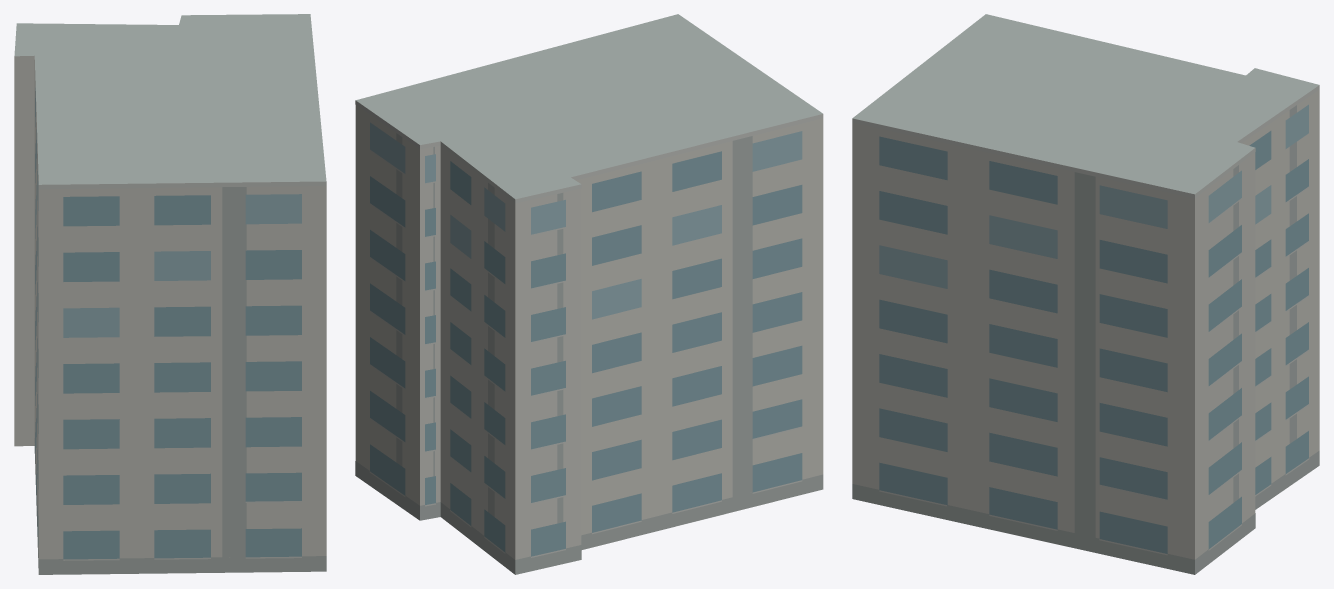
File: survey-upis-32888791.glb
3 views of the same model, side by side, from view 1: azimuth 30°, elevation 25°; view 2: azimuth 150°, elevation 25°; view 3: azimuth 270°, elevation 25° (orthographic). The views are drawn at different scales.
Visible parts, largest first — view 1: survey-upis-32888791.tmp; view 2: survey-upis-32888791.tmp; view 3: survey-upis-32888791.tmp.
Boxes of the visible parts, x1,y1,x2,y2 form: survey-upis-32888791.tmp: (14,14,326,574); survey-upis-32888791.tmp: (355,14,823,574); survey-upis-32888791.tmp: (852,14,1319,574).
Bounding box in the file's own units: 21.71 × 21.35 × 23.78.
